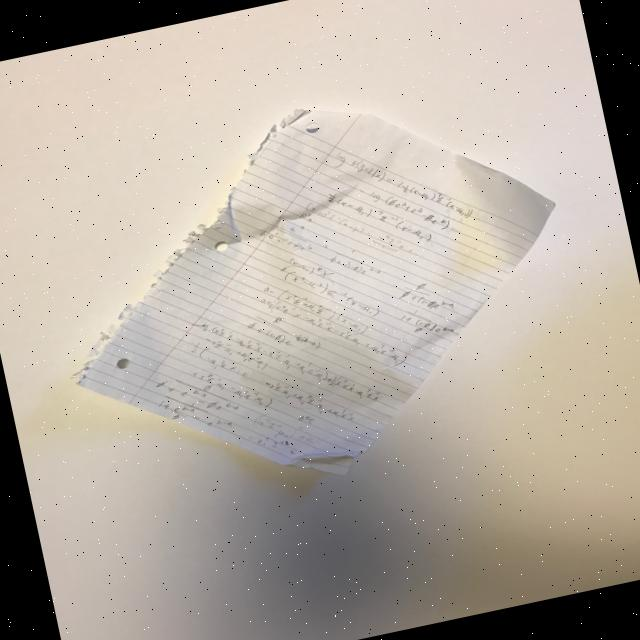paper: (26, 58, 602, 526)
